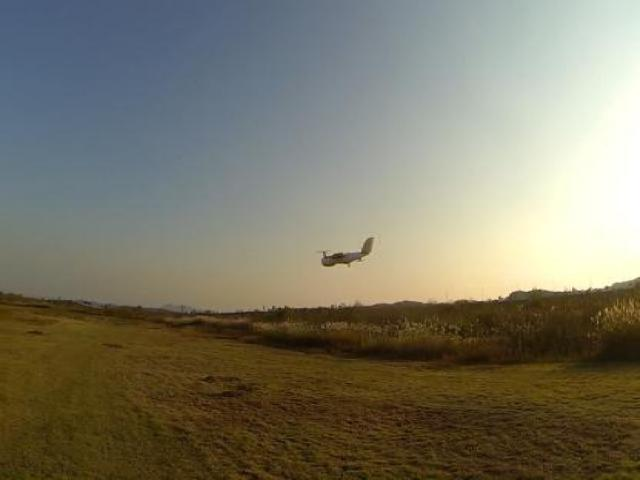uav: (313, 230, 378, 271)
